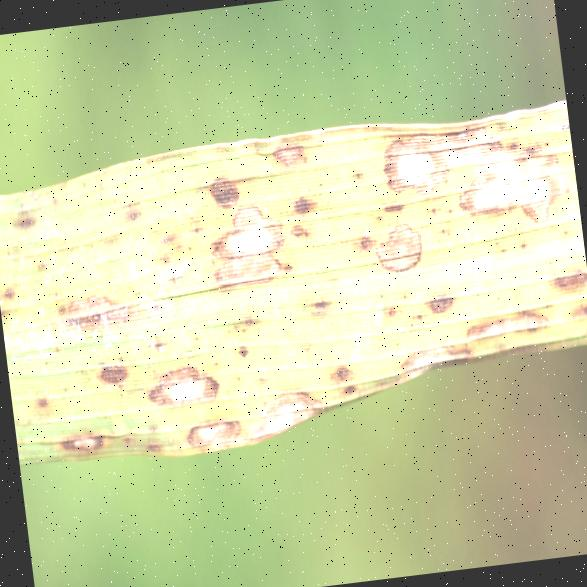Brown_Spot: (200, 194, 314, 308), (440, 142, 568, 235), (43, 270, 174, 334), (368, 106, 454, 198), (133, 336, 232, 415), (456, 275, 564, 347), (343, 210, 444, 282), (235, 372, 332, 446), (52, 410, 168, 470), (539, 245, 587, 363), (388, 327, 469, 385), (74, 328, 136, 395), (403, 260, 466, 318), (196, 157, 250, 218), (260, 134, 314, 172), (330, 350, 363, 407), (3, 202, 42, 246)
